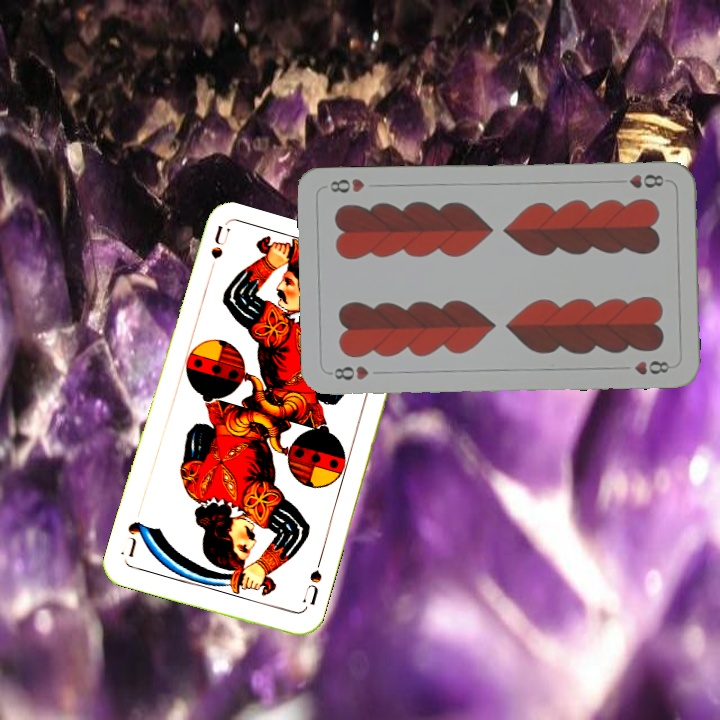H8: (325, 361, 371, 383), (626, 170, 667, 191)
SU: (203, 223, 233, 282), (298, 555, 325, 613)
